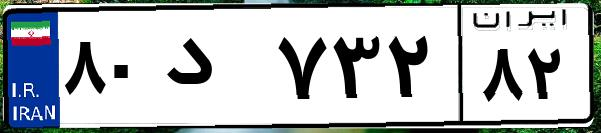0: (110, 28, 158, 98)
2: (385, 28, 445, 110), (525, 38, 570, 115)
3: (330, 28, 385, 110)
7: (270, 28, 330, 110)
8: (57, 26, 110, 100), (475, 38, 525, 113)
د: (158, 20, 270, 120)
